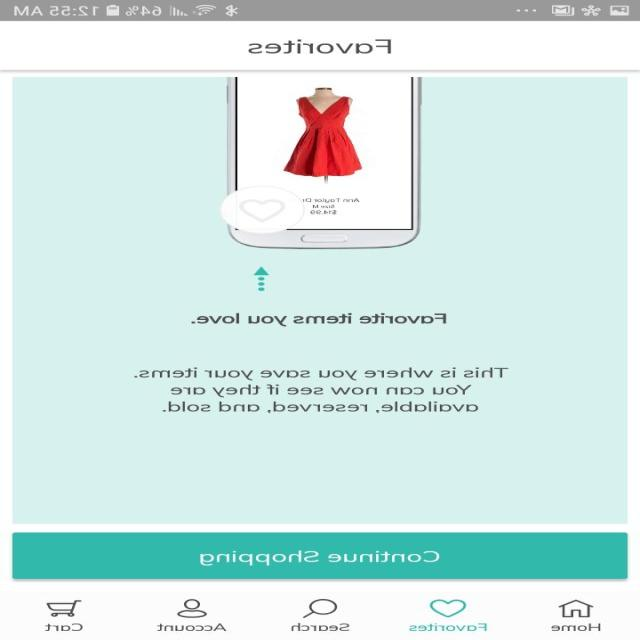Icon: (429, 598, 467, 617), (303, 598, 338, 618), (558, 599, 594, 617), (46, 599, 83, 616), (178, 598, 208, 617), (253, 266, 270, 291)
Image: (221, 77, 424, 249)
Text: (135, 366, 510, 413), (191, 312, 447, 326), (248, 39, 392, 54), (409, 623, 487, 631), (158, 623, 228, 631), (292, 622, 350, 631), (551, 623, 601, 631), (46, 623, 84, 631)
TextButton: (13, 532, 628, 579)
